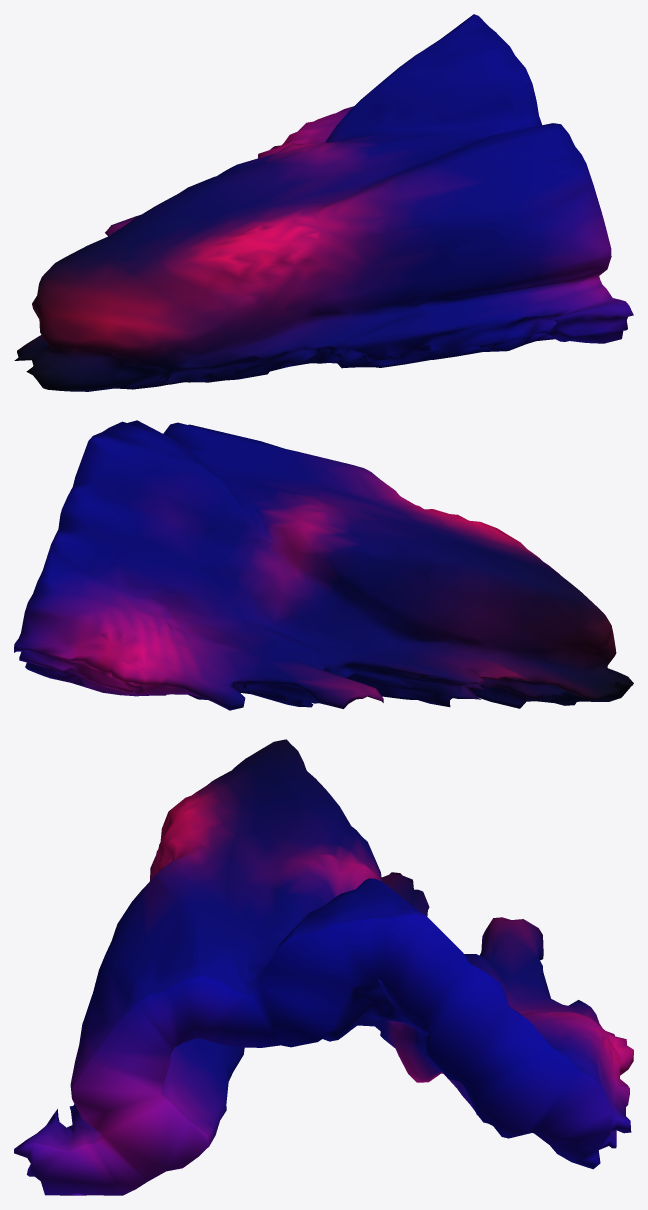
Rendered from tin_vein-u2-cold-lod0.gltf.
3 renders of one model, top to bottom at view 1: azimuth 30°, elevation 25°; view 2: azimuth 150°, elevation 25°; view 3: azimuth 270°, elevation 25°, orthographic. The views are drawn at different scales.
Parts seen in each view (by area): view 1: tin_vein-u2-cold-lod0; view 2: tin_vein-u2-cold-lod0; view 3: tin_vein-u2-cold-lod0.
Boxes of the visible parts, x1=… form: tin_vein-u2-cold-lod0: x1=14, y1=14, x2=633, y2=391; tin_vein-u2-cold-lod0: x1=14, y1=420, x2=633, y2=710; tin_vein-u2-cold-lod0: x1=14, y1=739, x2=633, y2=1195.
Size of the model in its own units: 0.8336 by 0.3392 by 0.6762.
